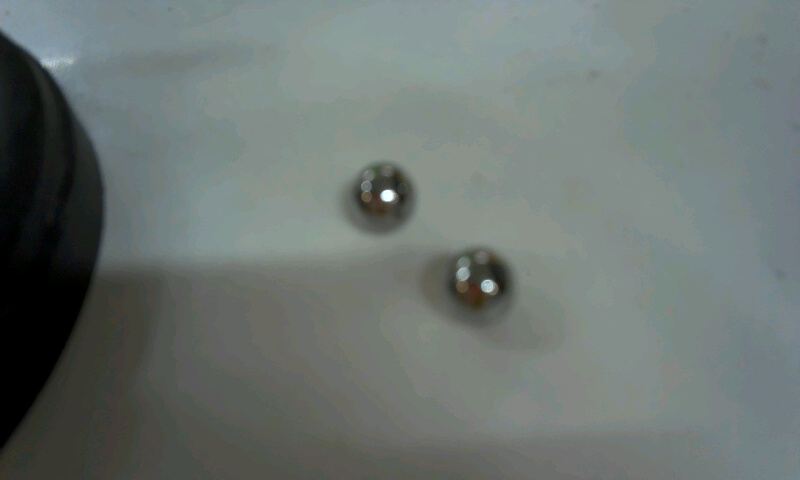steelball: (441, 243, 528, 331), (342, 153, 427, 243)
